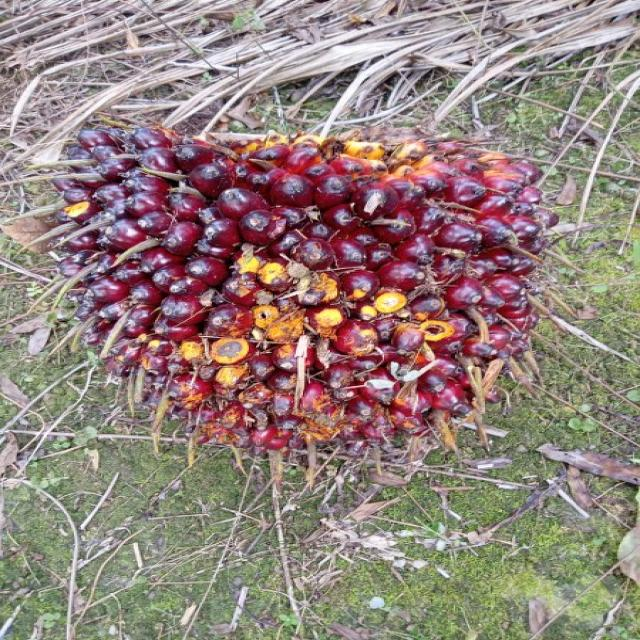fraksi 1: (58, 117, 547, 459)
